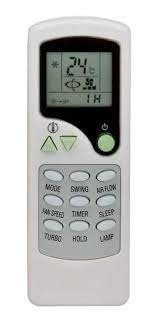remote control: (30, 26, 127, 309)
